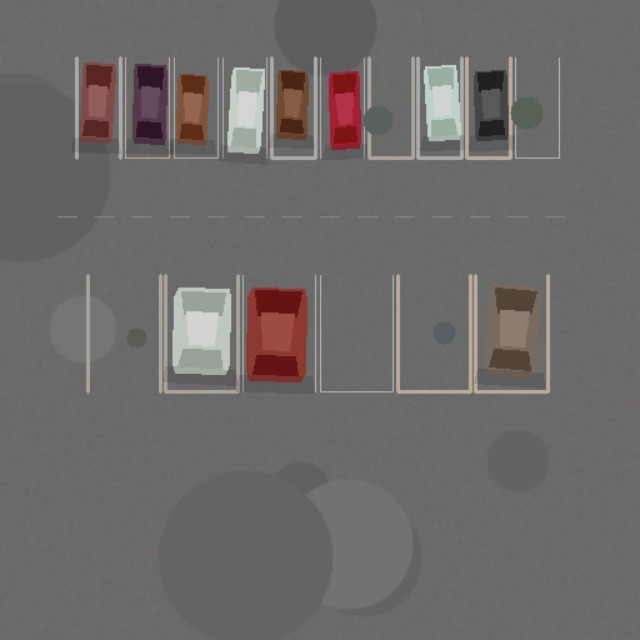space-empty: (87, 275, 160, 391), (320, 275, 393, 391), (397, 275, 470, 391), (369, 58, 413, 158), (515, 58, 559, 158)
space-occupied: (165, 275, 237, 391), (243, 275, 315, 391), (475, 275, 547, 391), (76, 58, 120, 158), (125, 58, 169, 158), (271, 58, 315, 158), (320, 58, 364, 158), (417, 58, 461, 158), (466, 58, 510, 158), (174, 58, 217, 158), (223, 58, 266, 158)
